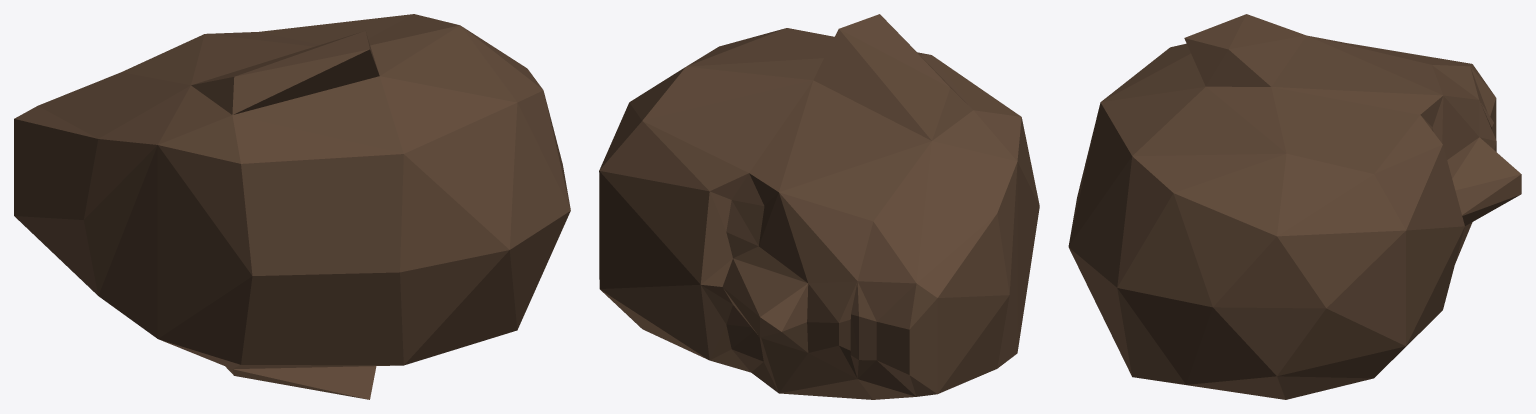
The model's file is HUM_HEAD_FLAIL.OBJ.
3 views of the same model, side by side, from view 1: azimuth 30°, elevation 25°; view 2: azimuth 150°, elevation 25°; view 3: azimuth 270°, elevation 25° (orthographic). The views are drawn at different scales.
Parts seen in each view (by area): view 1: HUM_HEAD_FLAIL; view 2: HUM_HEAD_FLAIL; view 3: HUM_HEAD_FLAIL.
Part boxes in pixels (x1,y1,x2,y2): HUM_HEAD_FLAIL: (14,14,570,399); HUM_HEAD_FLAIL: (599,14,1039,399); HUM_HEAD_FLAIL: (1068,14,1521,399).
Size of the model in its own units: 0.2413 by 0.1931 by 0.2333.
